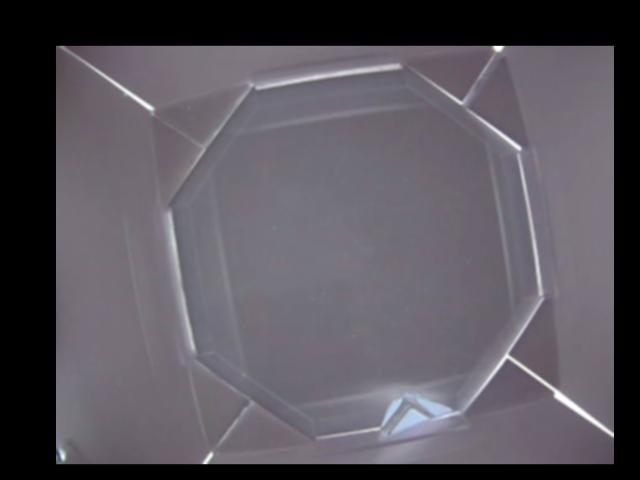China: (381, 394, 463, 437)
